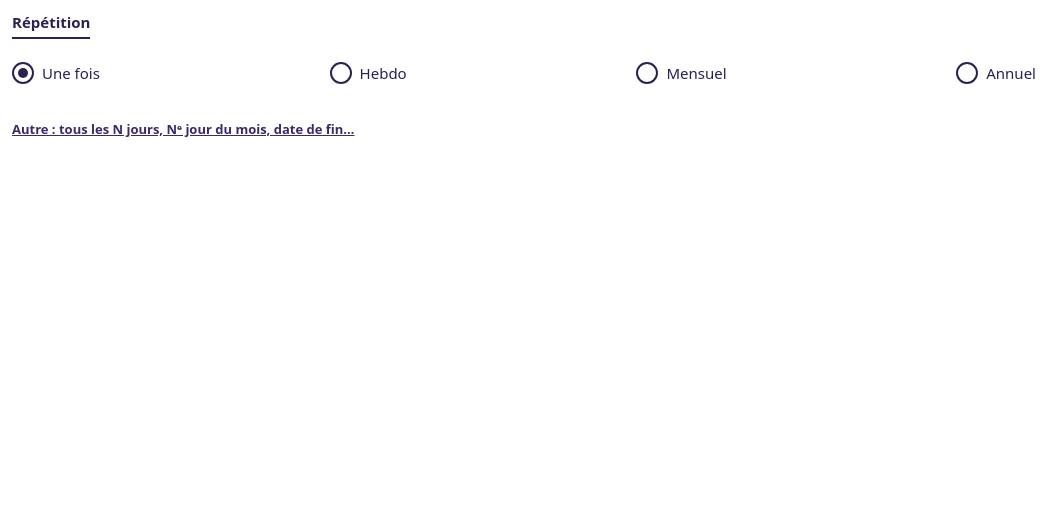
RecurrencePicker (T-09, Ajout.html) › Mensuel : « le 23 » par défaut ; Autre permet « le 4ᵉ mercredi » et « le dernier mercredi » (critère 2)
Click the radio button labelled "Mensuel" at (681, 73), box [636, 51, 726, 95]
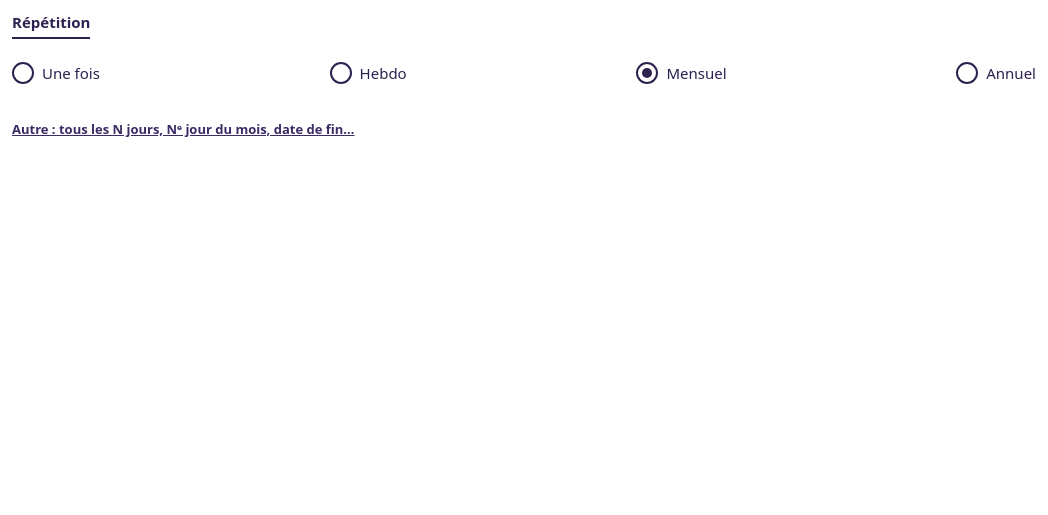
Click the button "Autre : tous les N jours, Nᵉ jour du mois, date de fin…" at (183, 129), box [12, 107, 354, 151]
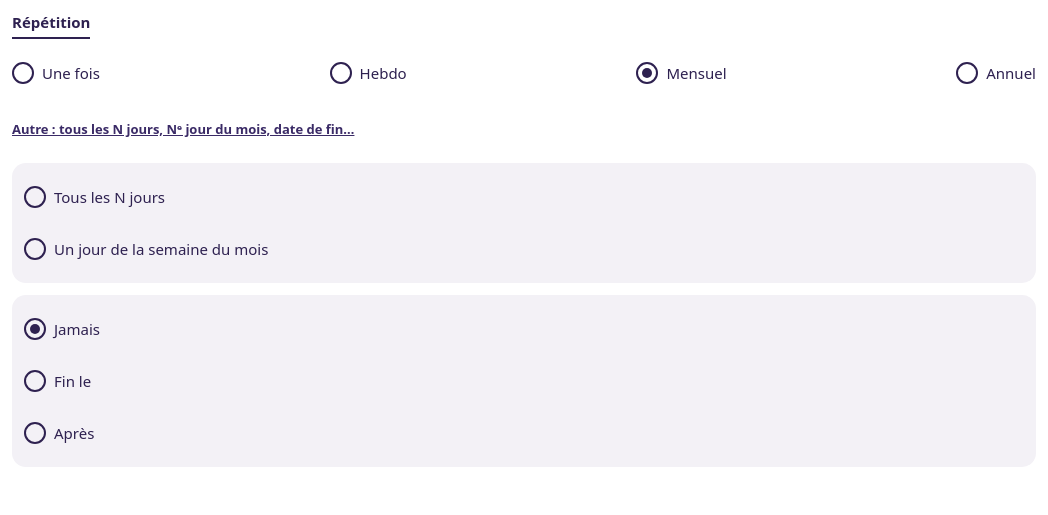
Click the radio button labelled "Un jour de la semaine du mois" at (146, 249), box [24, 227, 268, 271]
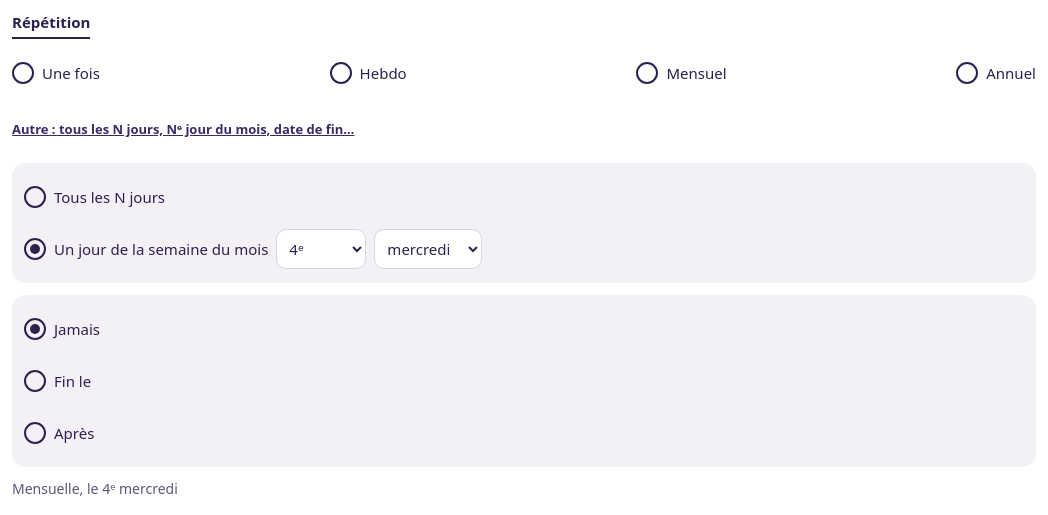
Expected: the text with test id "recurrence-summary" reads "Mensuelle, le 4ᵉ mercredi", [12, 479, 178, 498]
Select "dernier" in the dropdown named "Rang dans le mois" at (321, 249), box [276, 229, 366, 269]
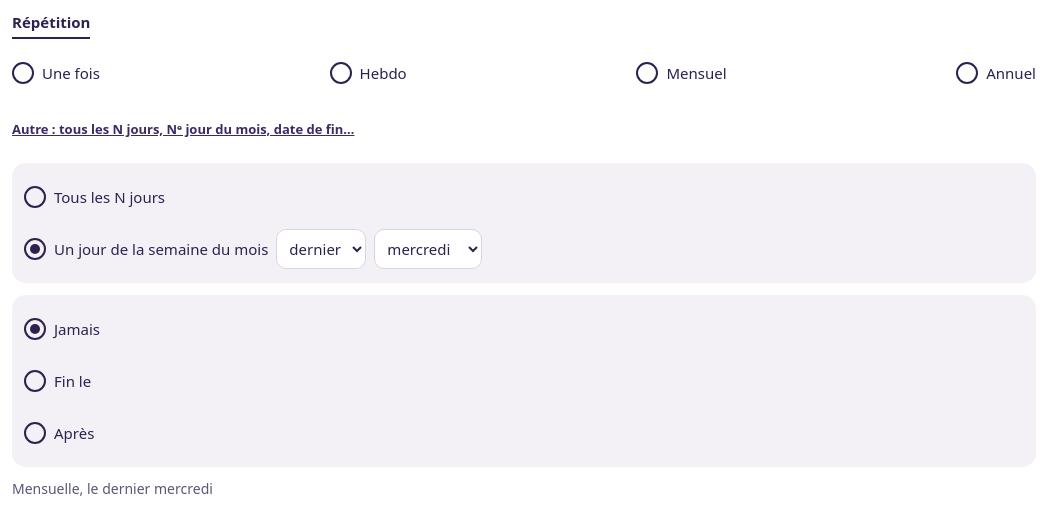
Expected: the text with test id "recurrence-summary" reads "Mensuelle, le dernier mercredi", [12, 479, 213, 498]
